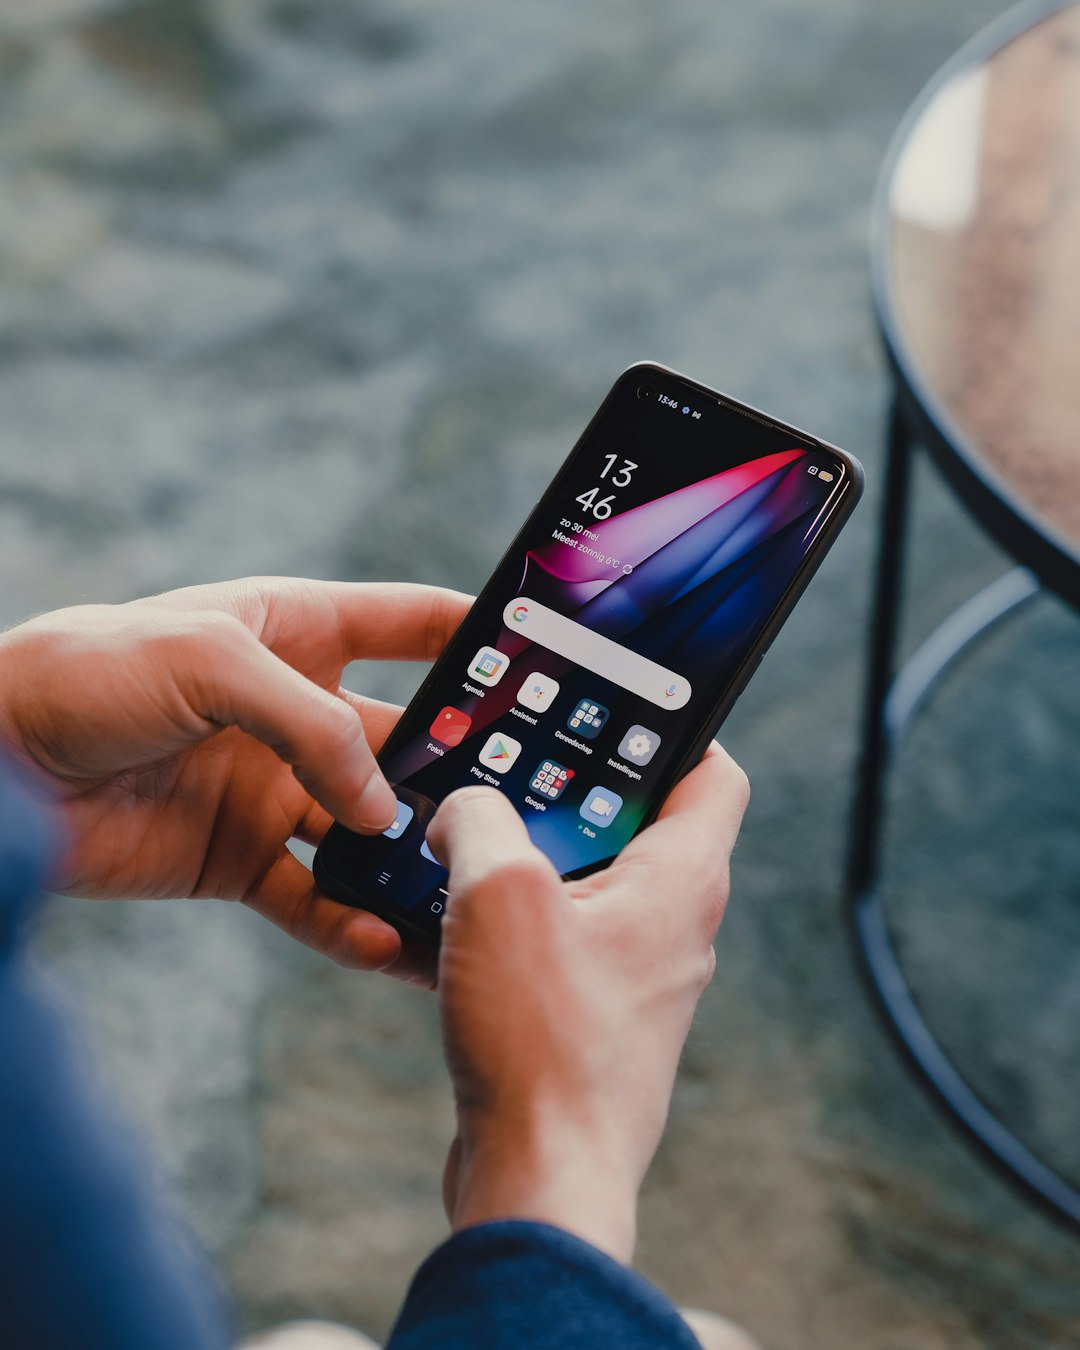phone: (312, 356, 863, 960)
